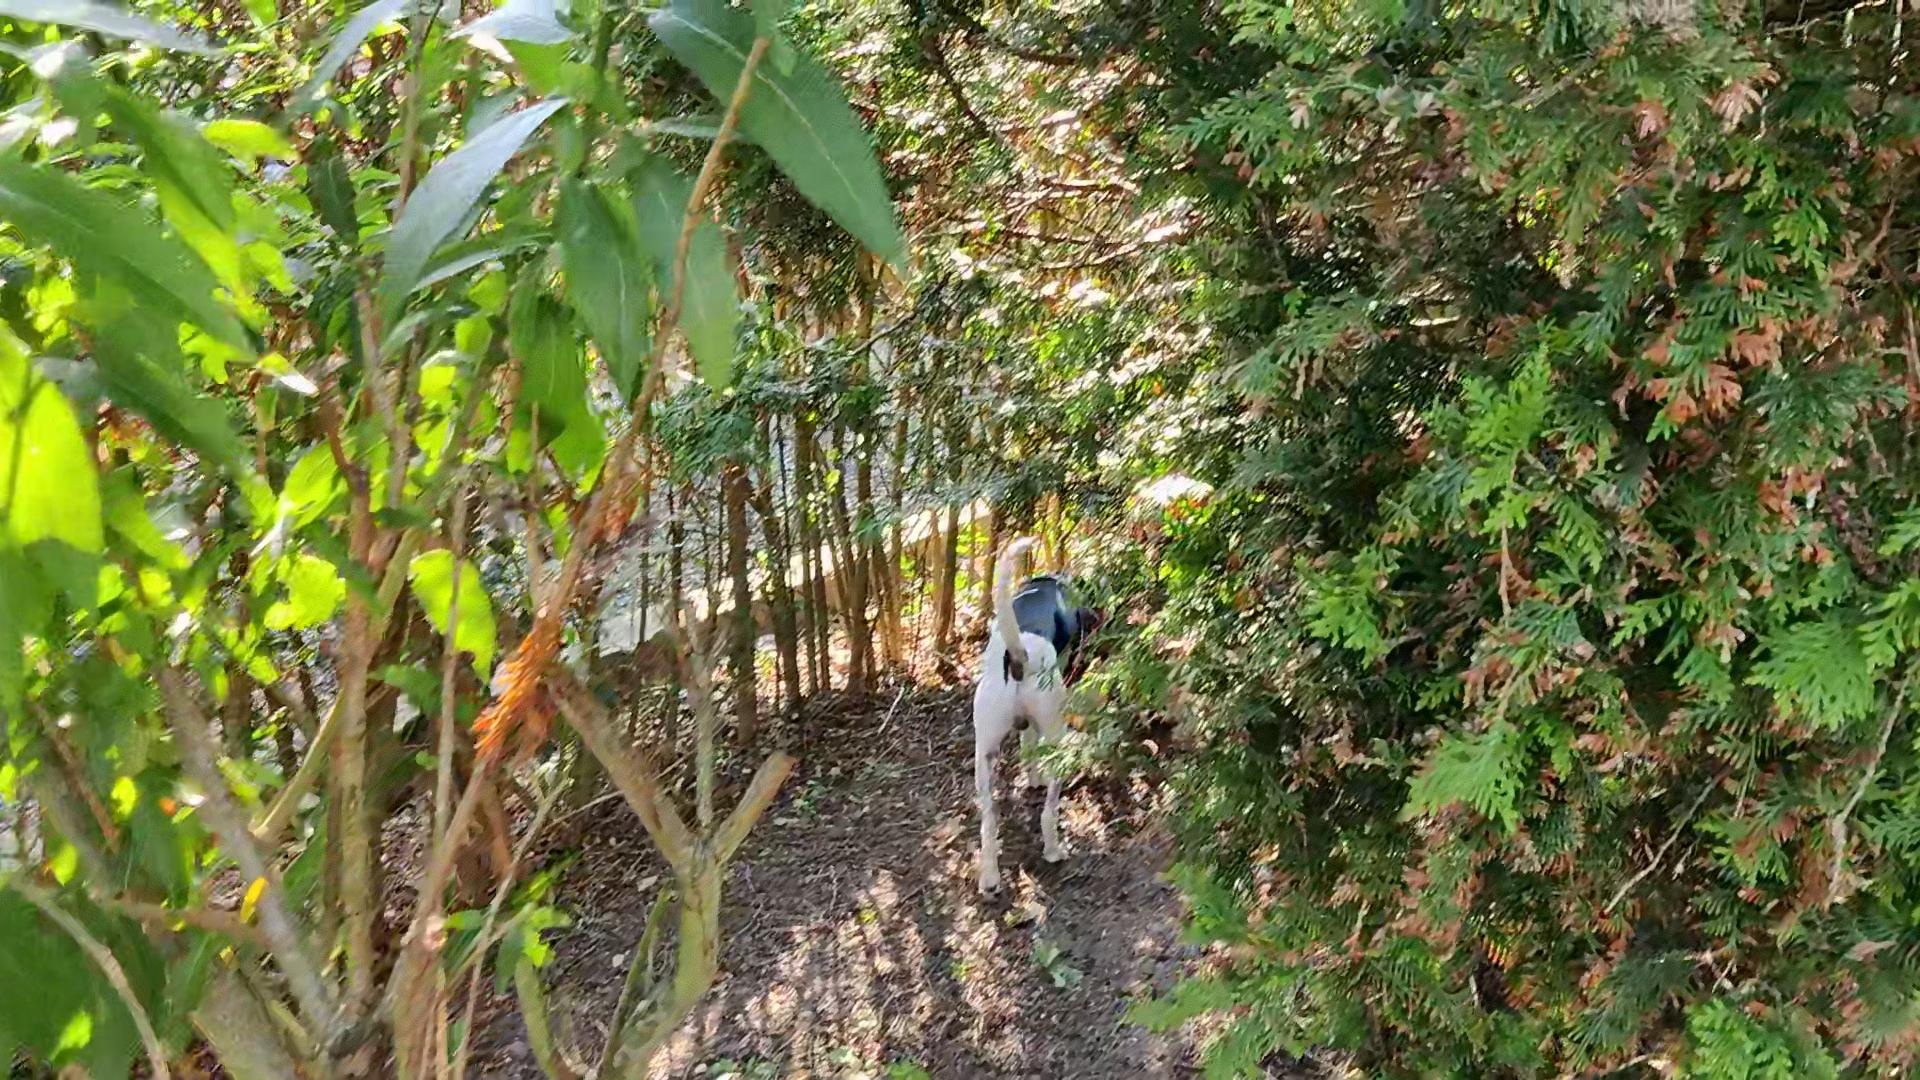Dog: (948, 520, 1131, 916)
